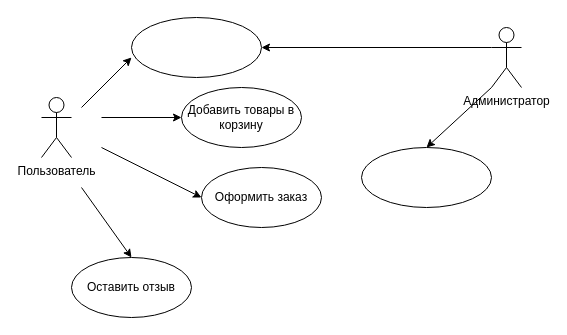
This 567x335 diagram has some shape labels left out. Here are the shapes that lost their labels. From the top down, the centre of each, then its label:
(196,47): Зарегистрир- оваться/войти в аккаунт
(426,177): Редактировать/удалять/добавлять товары
